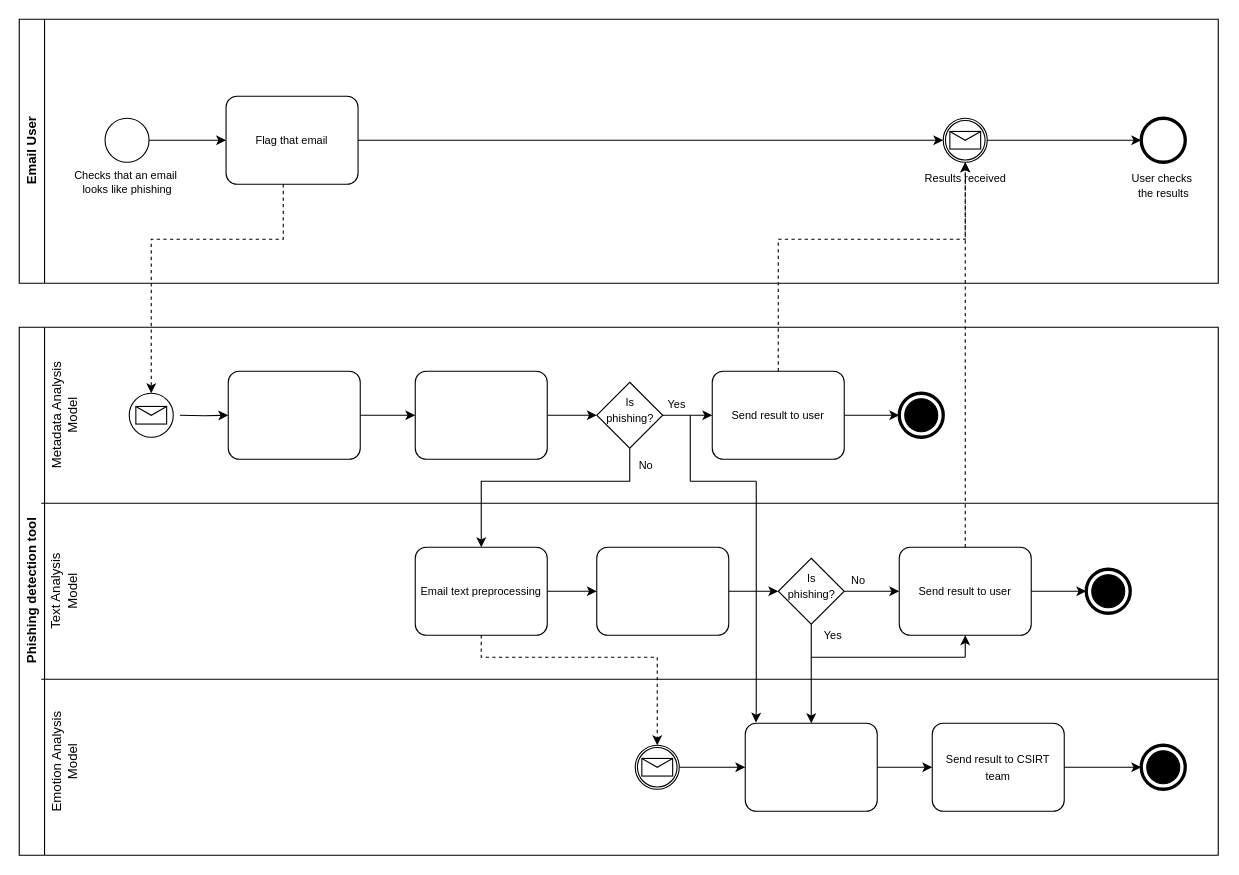
Some shapes in this 1239 by 875 pixel diagram are drawn without their labels. Here are the shapes that lost their labels. From the top down, the centre of each, then its label:
At (150,414): "Receives the email".
At (293,414): "Email metadata preprocessing".
At (480,414): "Analyzes metadata".
At (662,590): "Analyze the email text".
At (656,766): "Email text data".
At (810,766): "Classifies the emotion contained in the text".
